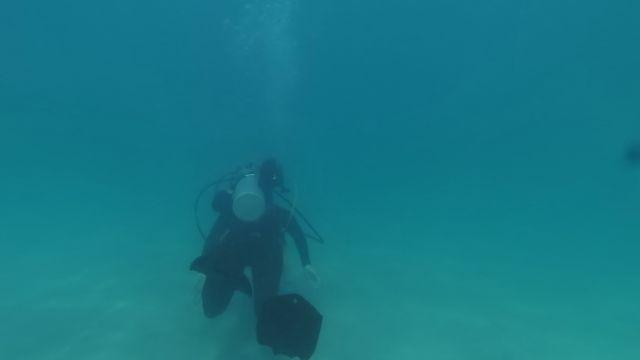Hand: (298, 259, 321, 287)
